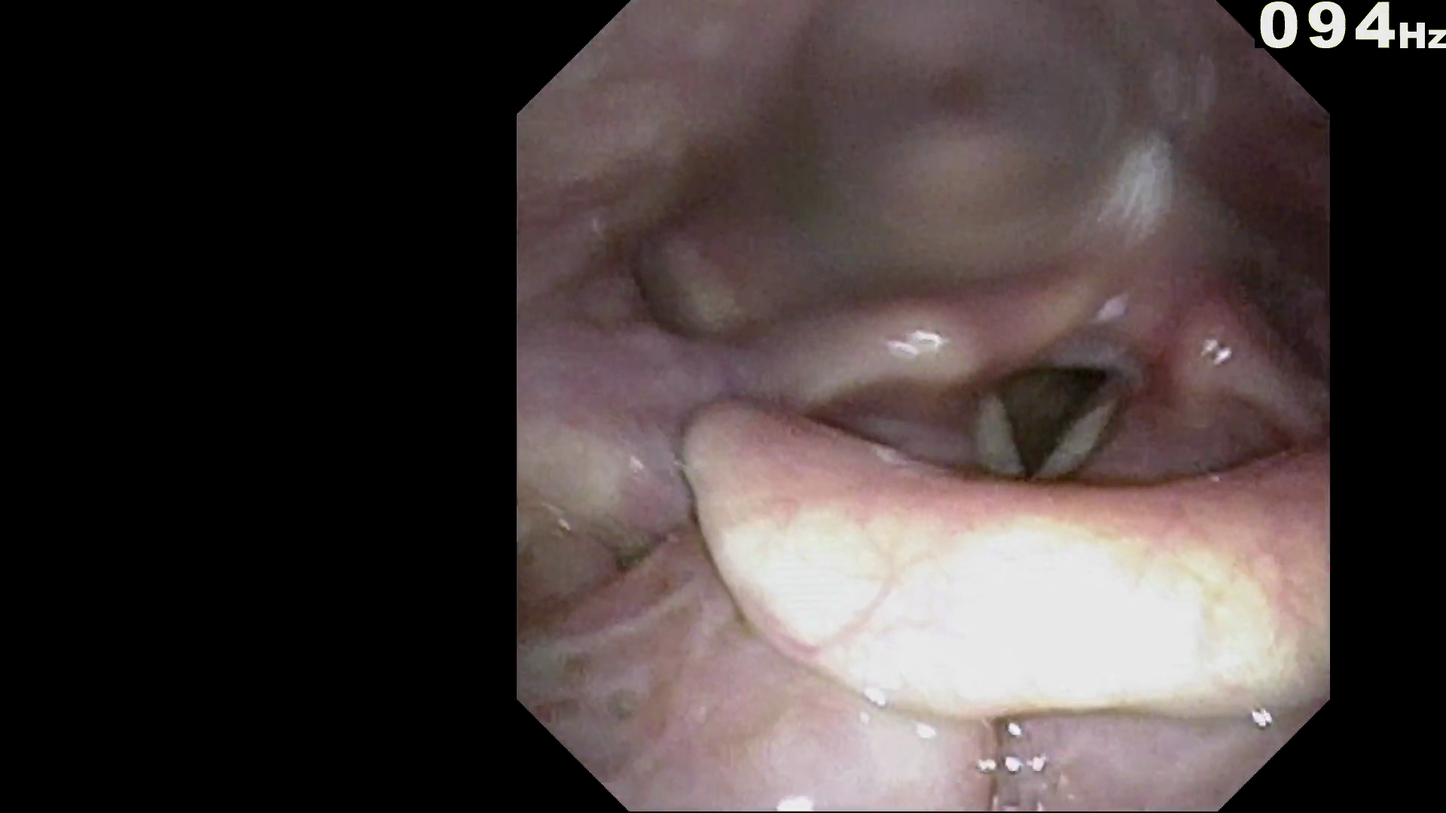epiglottis: (705, 483, 1314, 708)
